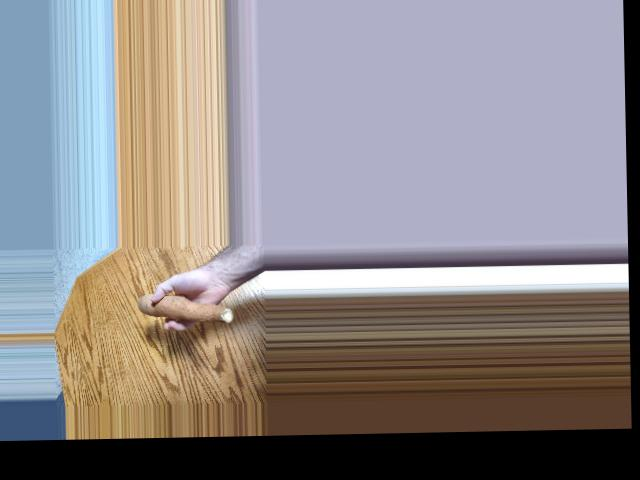sweet_potato: (139, 292, 231, 321)
